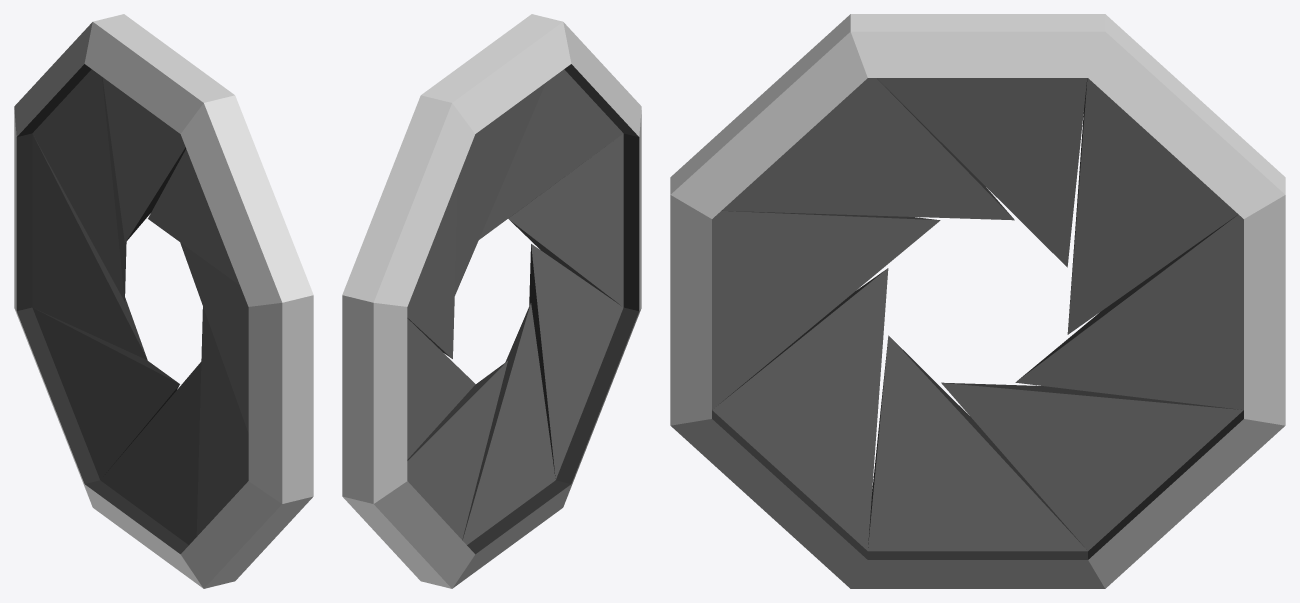
The model's file is Lens.glb.
The picture shows the model from 3 angles, left to right: view 1: azimuth 30°, elevation 25°; view 2: azimuth 150°, elevation 25°; view 3: azimuth 270°, elevation 25°; orthographic projection. The views are drawn at different scales.
Parts seen in each view (by area): view 1: Lens_col; view 2: Lens_col; view 3: Lens_col.
Part boxes in pixels (left/top/right/bottom): Lens_col: left=14, top=14, right=313, bottom=588; Lens_col: left=342, top=14, right=641, bottom=588; Lens_col: left=670, top=14, right=1285, bottom=588.
Size of the model in its own units: 0.25 by 1.85 by 1.85.
1 material, 1 textured.
